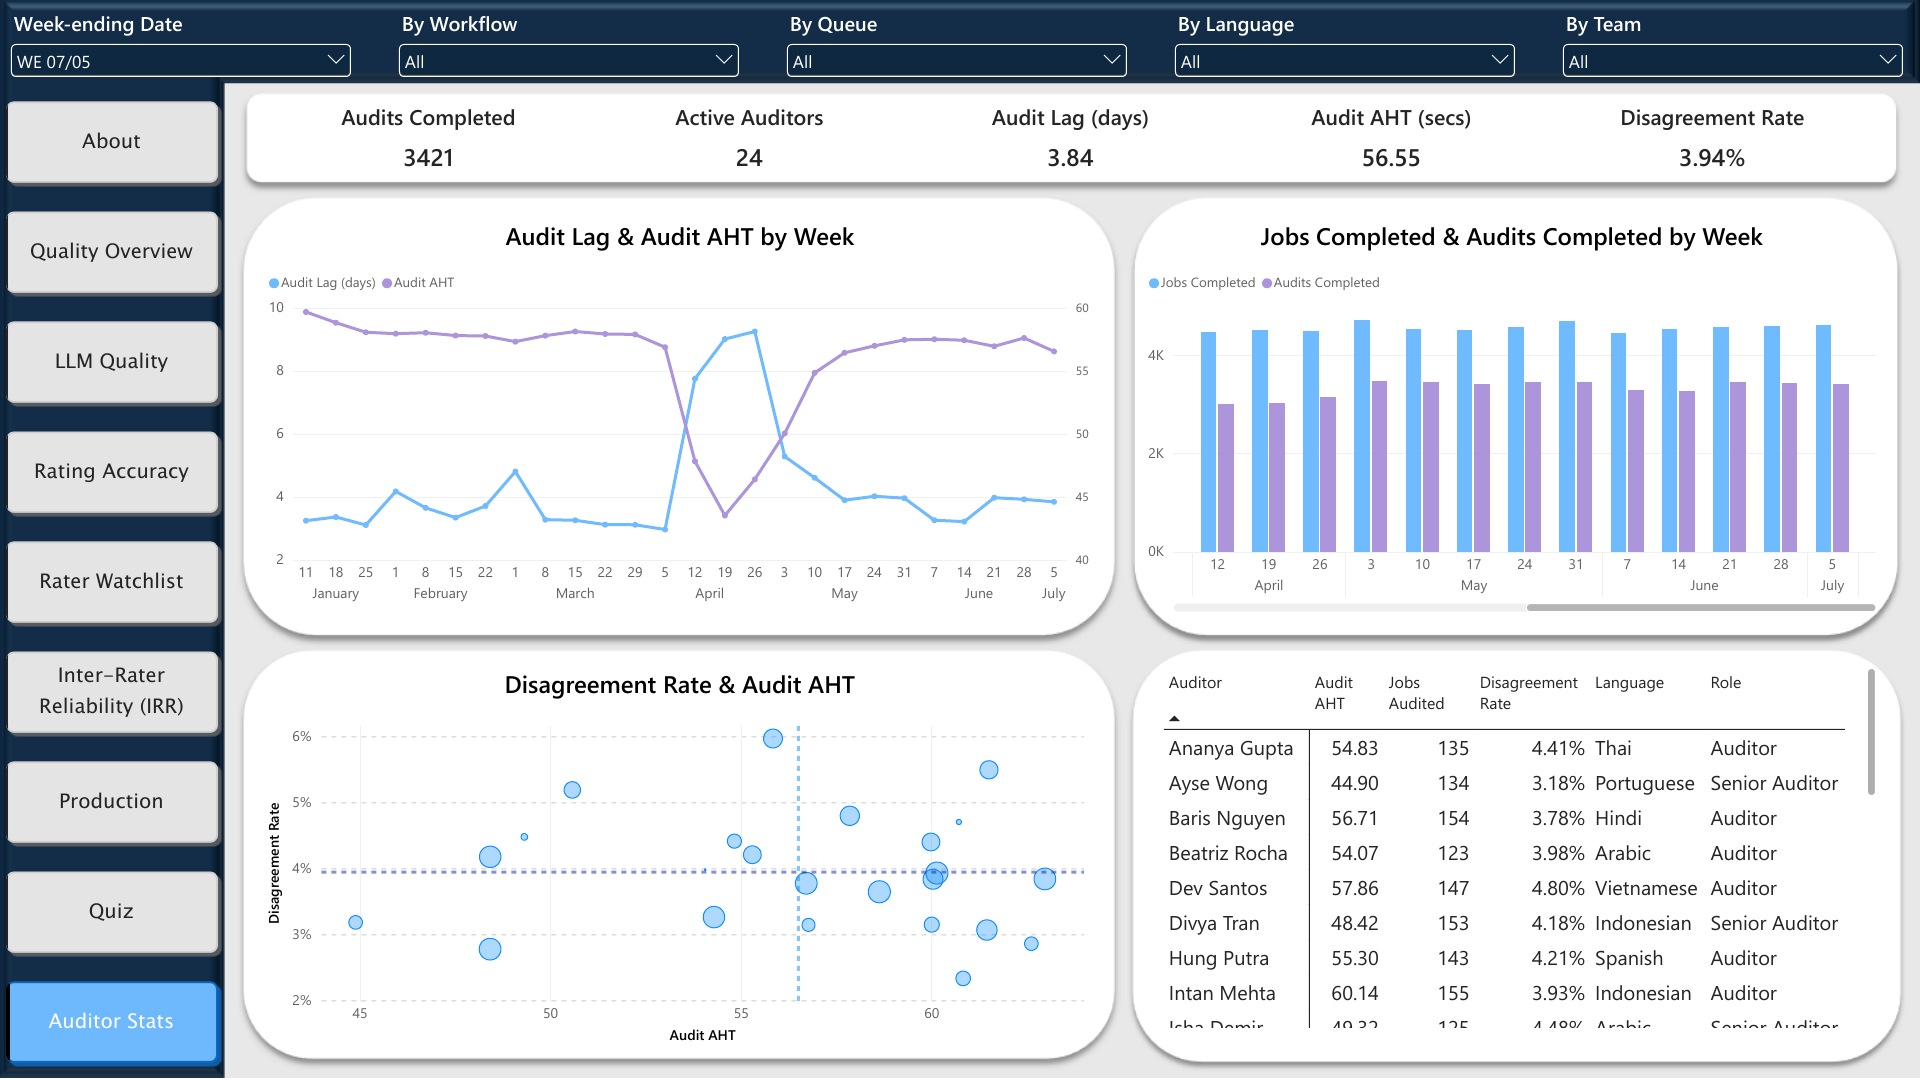

The dashboard page shown, as its layout file describes it:
{"tool":"powerbi","page":{"name":"Auditor Stats","canvas":[1920,1080],"ordinal":8},"visuals":[{"type":"slicer","title":"By WE","fields":{"Values":["Dim_Date.week_label"]},"box":[6,9.8,350,80],"z":0,"group":"g1"},{"type":"cardVisual","fields":{"Data":["_Measures.Jobs Audited","_Measures.Active Auditors","_Measures.Audit Lag (days)","_Measures.Avg Audit Handle Time","_Measures.Disagreement Rate"]},"box":[256,96,1632,96],"z":0},{"type":"slicer","fields":{"Values":["Dim_Rater.team"]},"box":[1558,9.8,350,80],"z":1000,"group":"g1"},{"type":"lineChart","title":"Audit Lag & Audit AHT by Week","fields":{"Category":["Dim_Date.week_end.Variation.Date Hierarchy.Month","Dim_Date.week_end.Variation.Date Hierarchy.Day"],"Y":["_Measures.Audit Lag (days)"],"Y2":["_Measures.Audit AHT"]},"box":[256,208,848,416],"z":1000},{"type":"slicer","fields":{"Values":["Dim_Rater.language"]},"box":[1170,9.8,350,80],"z":2000,"group":"g1"},{"type":"clusteredColumnChart","title":"Jobs Completed & Audits Completed by Week","fields":{"Category":["Dim_Date.week_end.Variation.Date Hierarchy.Month","Dim_Date.week_end.Variation.Date Hierarchy.Day"],"Y":["_Measures.Jobs Completed","_Measures.Jobs Audited"]},"box":[1136,208,752,416],"z":2000},{"type":"slicer","fields":{"Values":["Dim_Queue.queue_id"]},"box":[782,9.8,350,80],"z":3000,"group":"g1"},{"type":"scatterChart","title":"Disagreement Rate & Audit AHT","fields":{"Category":["Dim_Auditor.auditor_name"],"Size":["_Measures.Jobs Audited"],"X":["_Measures.Audit AHT"],"Y":["_Measures.Disagreement Rate"]},"box":[256,656,848,400],"z":3000},{"type":"slicer","fields":{"Values":["Dim_Queue.workflow"]},"box":[394,9.8,350,80],"z":4000,"group":"g1"},{"type":"pivotTable","fields":{"Rows":["Dim_Auditor.auditor_name"],"Values":["_Measures.Audit AHT","_Measures.Jobs Audited","_Measures.Disagreement Rate","Min(Dim_Auditor.language)","Min(Dim_Auditor.seniority)"]},"box":[1152,656,736,384],"z":4000},{"type":"group","id":"g1","title":"Group 4","box":[0,9.8,1908,1062.2],"z":5000},{"type":"pageNavigator","box":[0,96,224,976],"z":9000,"group":"g1"}]}

Visuals, with their boxes in screenshot pixels (x1, y1, x2, y2), scaled from the page's 1920x1080 canvas onto the 1920x1080 screenshot:
"By WE" slicer: <bbox>6, 10, 356, 90</bbox>
cardVisual - _Measures.Jobs Audited x _Measures.Active Auditors: <bbox>256, 96, 1888, 192</bbox>
slicer - Dim_Rater.team: <bbox>1558, 10, 1908, 90</bbox>
"Audit Lag & Audit AHT by Week" lineChart: <bbox>256, 208, 1104, 624</bbox>
slicer - Dim_Rater.language: <bbox>1170, 10, 1520, 90</bbox>
"Jobs Completed & Audits Completed by Week" clusteredColumnChart: <bbox>1136, 208, 1888, 624</bbox>
slicer - Dim_Queue.queue_id: <bbox>782, 10, 1132, 90</bbox>
"Disagreement Rate & Audit AHT" scatterChart: <bbox>256, 656, 1104, 1056</bbox>
slicer - Dim_Queue.workflow: <bbox>394, 10, 744, 90</bbox>
pivotTable - Dim_Auditor.auditor_name x _Measures.Audit AHT: <bbox>1152, 656, 1888, 1040</bbox>
"Group 4" group: <bbox>0, 10, 1908, 1072</bbox>
pageNavigator: <bbox>0, 96, 224, 1072</bbox>
